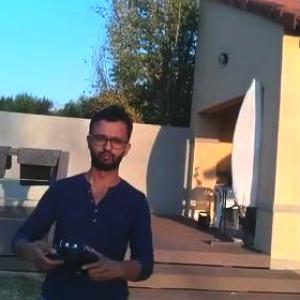follow: (5, 92, 158, 299)
